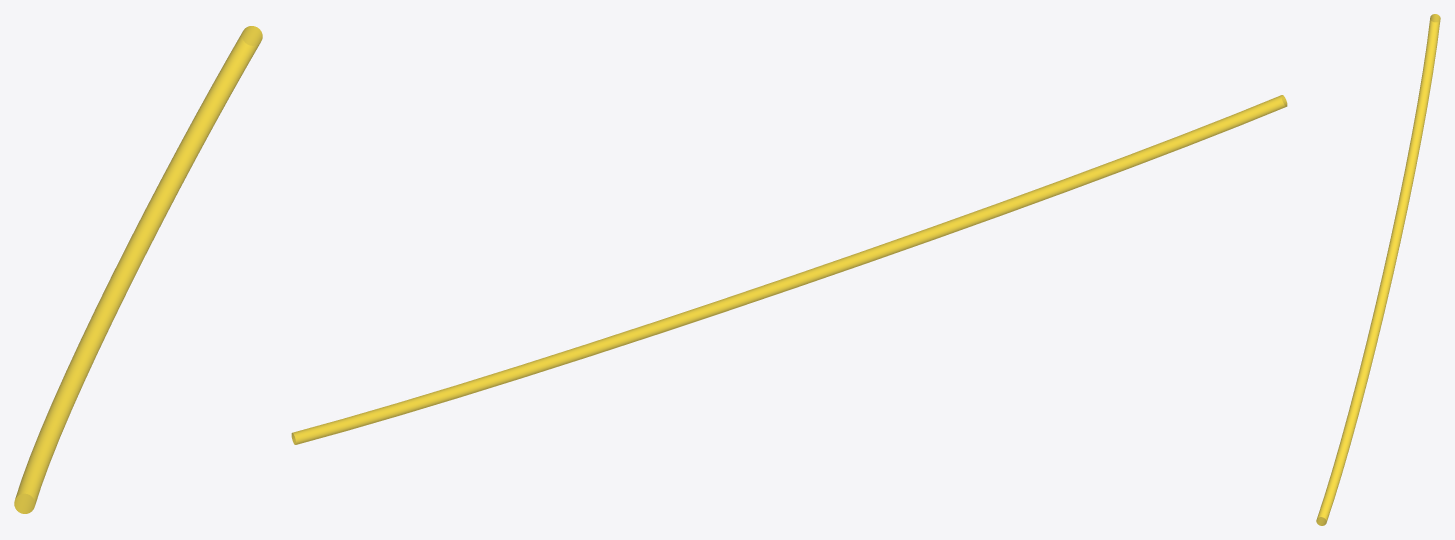
File: Event_402970704_track_67.fbx
3 renders of one model, left to right at view 1: azimuth 90°, elevation 25°; view 2: azimuth 210°, elevation 25°; view 3: azimuth 270°, elevation 25°, orthographic. The views are drawn at different scales.
Visible parts, largest first — view 1: Model; view 2: Model; view 3: Model.
Part boxes in pixels (box(x1,y1,x2,y2)): Model: box(14, 26, 262, 513); Model: box(291, 95, 1287, 444); Model: box(1316, 14, 1440, 525).
Bounding box in the file's own units: 3.32 × 0.6039 × 0.4722.
